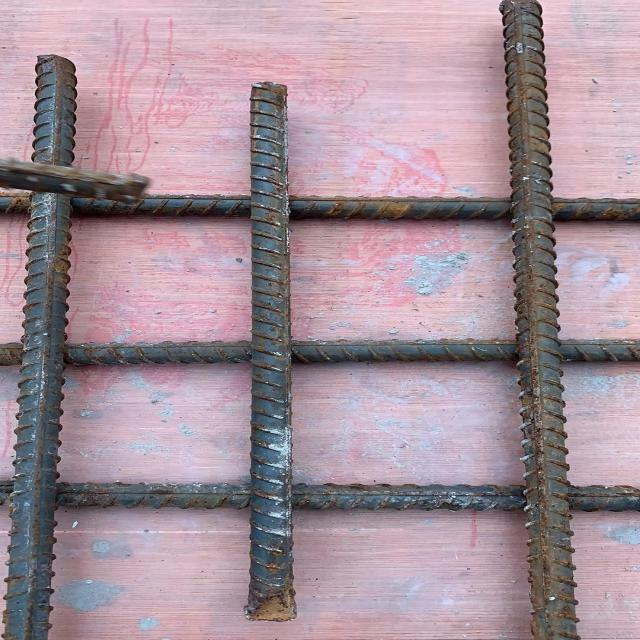ribbed bar: (497, 0, 584, 639), (0, 55, 82, 639), (240, 80, 297, 623), (0, 477, 639, 511), (0, 192, 639, 226), (0, 337, 639, 368), (0, 155, 156, 210)
